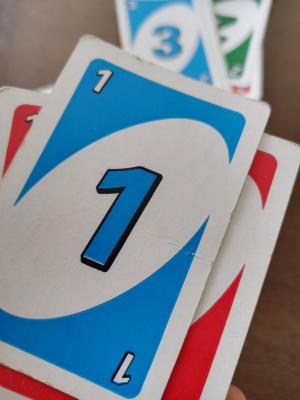blue: (65, 72, 164, 390)
num_1: (101, 340, 144, 387), (87, 62, 117, 102)
